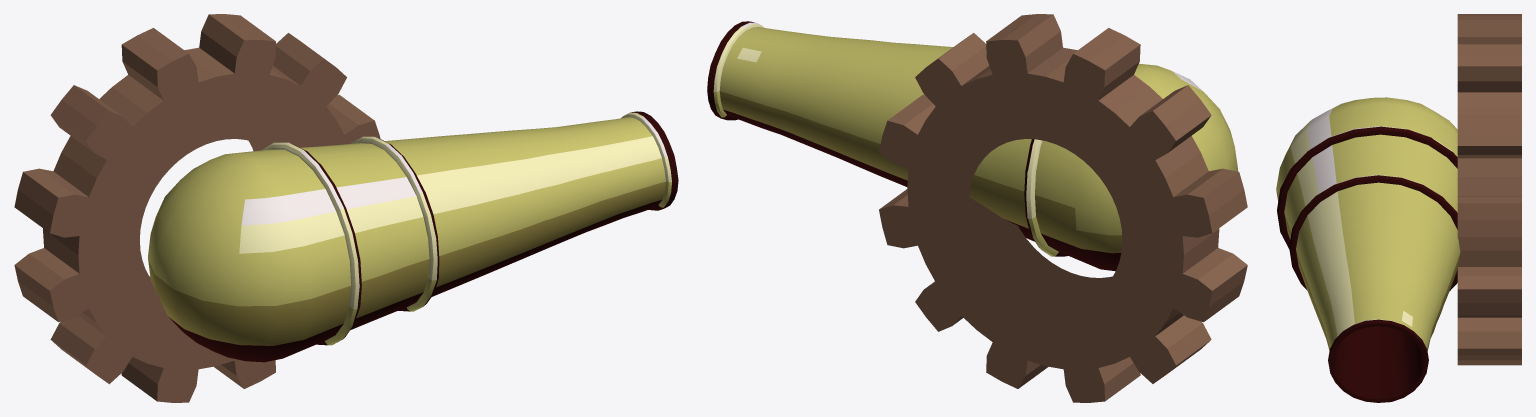
The model's file is turret_3_1.glb.
3 renders of one model, left to right at view 1: azimuth 30°, elevation 25°; view 2: azimuth 150°, elevation 25°; view 3: azimuth 270°, elevation 25°, orthographic. The views are drawn at different scales.
Visible parts, largest first — view 1: 1, gear; view 2: gear, 1; view 3: 1, gear.
Part boxes in pixels (left/top/right/bottom): 1: left=148, top=111, right=678, bottom=362; gear: left=14, top=14, right=380, bottom=402; gear: left=879, top=14, right=1247, bottom=402; 1: left=707, top=21, right=1237, bottom=271; 1: left=1276, top=97, right=1460, bottom=402; gear: left=1457, top=14, right=1521, bottom=365.
Size of the model in its own units: 2.17 by 1.3 by 0.9188.
